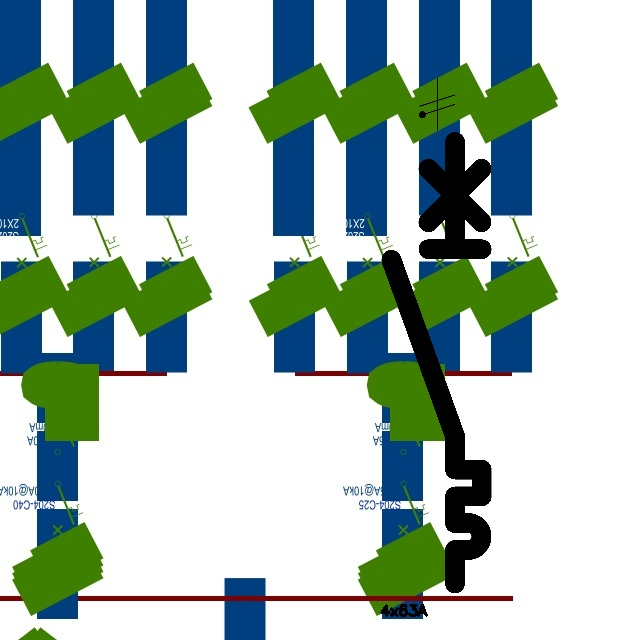interruptor_termomagnetico: (380, 130, 493, 594)
